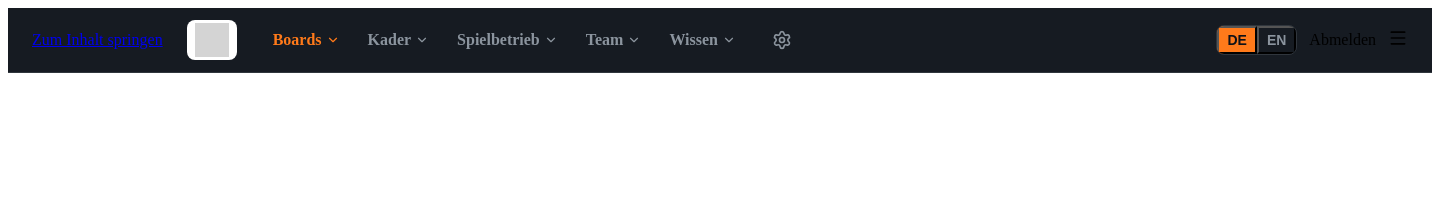
Test: Header – gruppierte Navigation › schließt die offene Gruppe bei einem Klick außerhalb der Navigation
The image size is (1440, 200).
Step 1. Click the button "Kader" → (398, 40), box [356, 23, 441, 57]
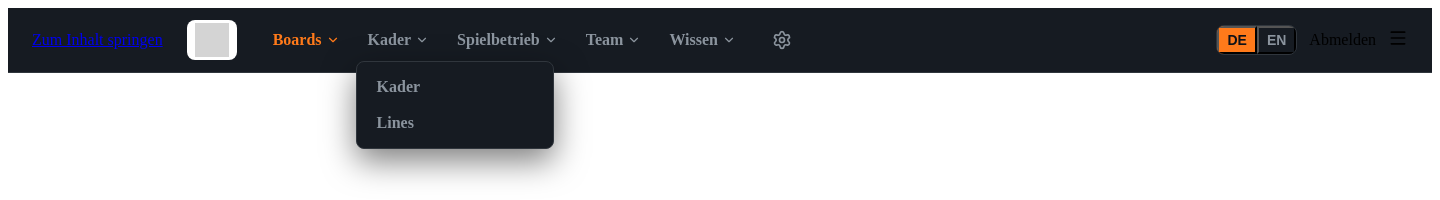
Expected: the link "Lines" is shown, [376, 114, 414, 131]
Step 2. Press the mouse on the element that starts with "Zum Inhalt springen" → (720, 40), box [8, 8, 1432, 73]
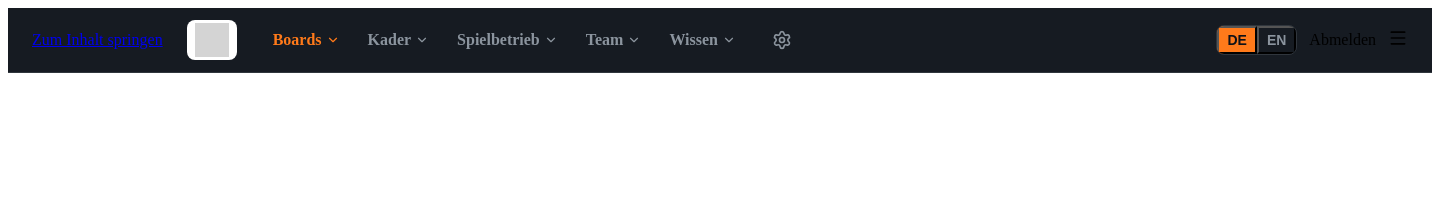
Expected: the link "Lines" is gone
